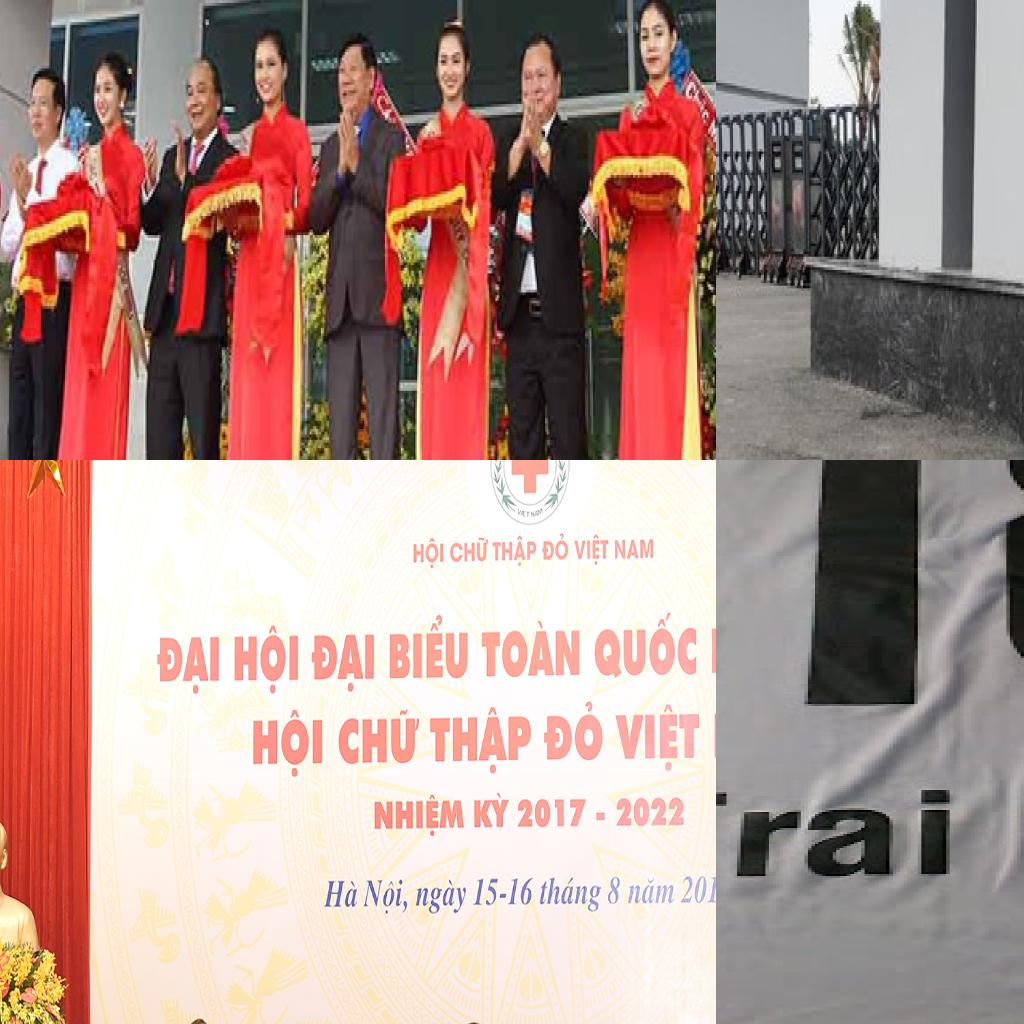text: (758, 460, 1024, 708), (716, 788, 953, 882), (590, 607, 698, 679), (428, 705, 533, 775), (478, 613, 582, 682), (609, 698, 702, 770), (385, 612, 470, 683), (250, 706, 326, 778), (230, 624, 303, 698), (338, 706, 422, 765), (152, 629, 221, 698), (372, 791, 464, 840), (538, 698, 603, 762), (308, 630, 377, 690), (514, 788, 591, 835), (414, 871, 471, 922), (538, 871, 602, 914), (614, 794, 690, 826), (469, 786, 513, 834), (362, 875, 412, 917), (628, 871, 679, 912), (322, 871, 365, 914), (677, 866, 716, 908), (572, 528, 610, 568), (493, 535, 538, 565), (448, 530, 491, 561), (612, 532, 657, 561), (410, 535, 445, 568), (470, 871, 501, 908), (506, 870, 536, 907), (540, 530, 572, 562), (606, 870, 625, 911), (374, 90, 393, 118), (683, 76, 700, 106), (515, 505, 532, 521), (530, 502, 545, 519)
